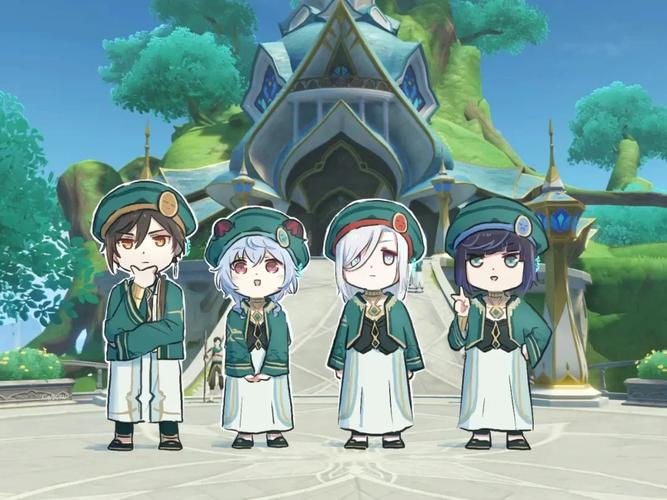夜兰: (442, 196, 544, 456)
